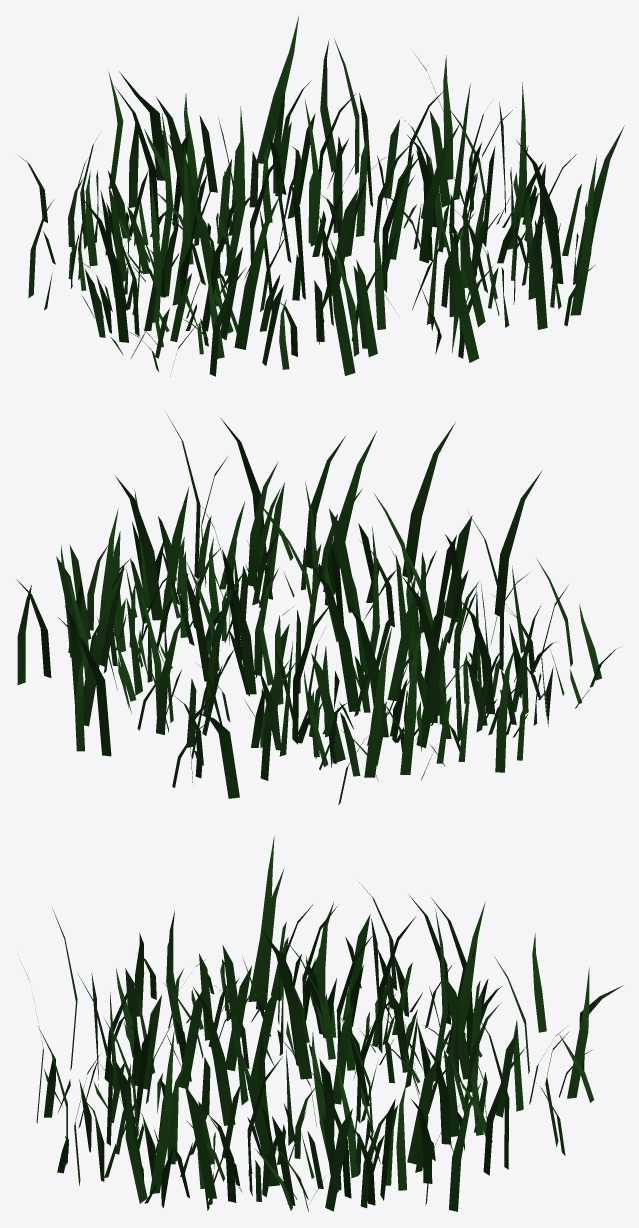
File: grass_0.obj
The picture shows the model from 3 angles, top to bottom: view 1: azimuth 30°, elevation 25°; view 2: azimuth 150°, elevation 25°; view 3: azimuth 270°, elevation 25°; orthographic projection.
Parts seen in each view (by area): view 1: GrassLOD0; view 2: GrassLOD0; view 3: GrassLOD0.
Boxes of the visible parts, bbox=[...] form: GrassLOD0: bbox=[17, 16, 624, 376]; GrassLOD0: bbox=[16, 415, 621, 804]; GrassLOD0: bbox=[17, 836, 623, 1211].
Bounding box in the file's own units: 0.7877 × 0.2494 × 0.8548.
